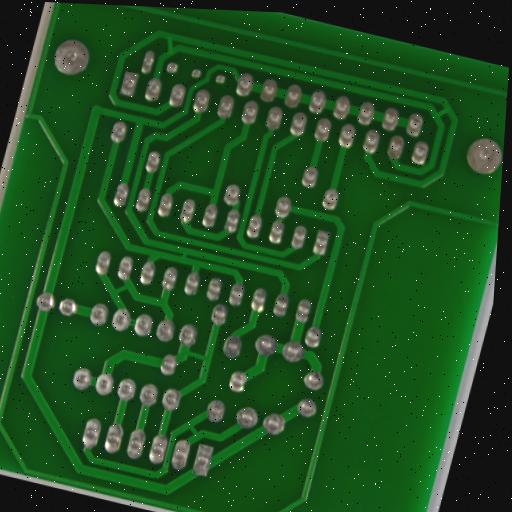short_circuit: (425, 95, 461, 129), (175, 341, 218, 369), (155, 30, 188, 62), (104, 274, 135, 302), (179, 419, 208, 441), (171, 244, 194, 268)
